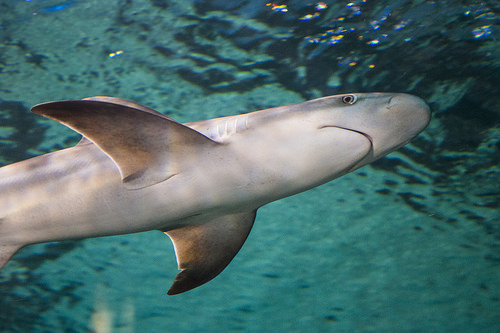shark: (7, 57, 438, 302)
